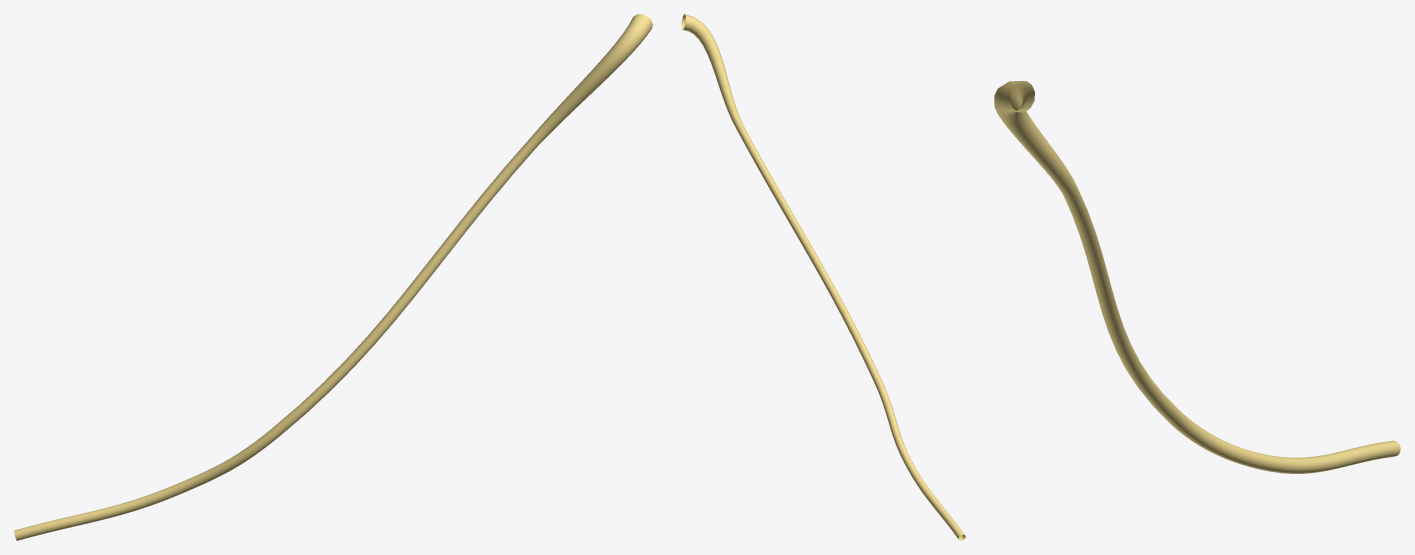
3 renders of one model, left to right at view 1: azimuth 30°, elevation 25°; view 2: azimuth 150°, elevation 25°; view 3: azimuth 270°, elevation 25°, orthographic. The views are drawn at different scales.
Parts seen in each view (by area): view 1: ZA_2d5924e1f7178f1b; view 2: ZA_2d5924e1f7178f1b; view 3: ZA_2d5924e1f7178f1b.
Boxes of the visible parts, x1=… form: ZA_2d5924e1f7178f1b: x1=14, y1=14, x2=652, y2=540; ZA_2d5924e1f7178f1b: x1=681, y1=14, x2=965, y2=540; ZA_2d5924e1f7178f1b: x1=994, y1=81, x2=1400, y2=473.
Size of the model in its own units: 0.0537 by 0.0499 by 0.025.
